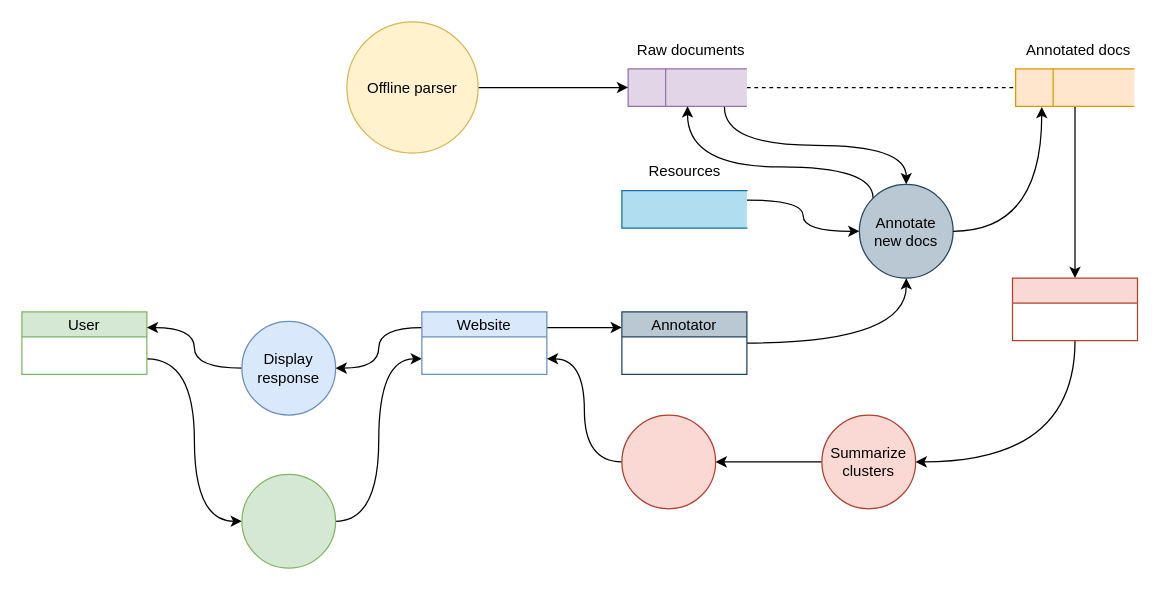
Image size: 1169x590. Some labels were removed from this diagram. Each missing label, with the centre of its shape:
Clusterer: (x=1074, y=309)
Create response: (x=668, y=461)
Send request: (x=288, y=520)
